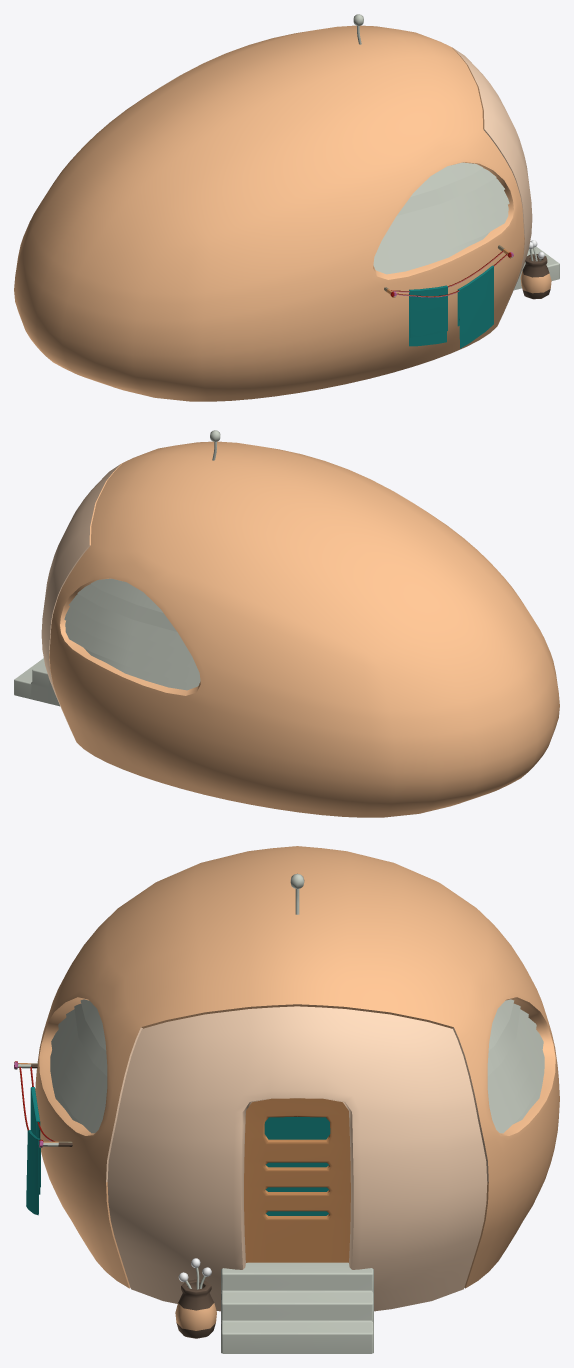
Rendered from SM_egg_house_A.fbx.
3 renders of one model, top to bottom at view 1: azimuth 30°, elevation 25°; view 2: azimuth 150°, elevation 25°; view 3: azimuth 270°, elevation 25°, orthographic. The views are drawn at different scales.
Visible parts, largest first — view 1: SM_egg_house; view 2: SM_egg_house; view 3: SM_egg_house.
Boxes of the visible parts, x1,y1,x2,y2 form: SM_egg_house: (14, 14, 559, 401); SM_egg_house: (14, 430, 559, 817); SM_egg_house: (14, 846, 559, 1353).
Bounding box in the file's own units: 759 × 418 × 558.
